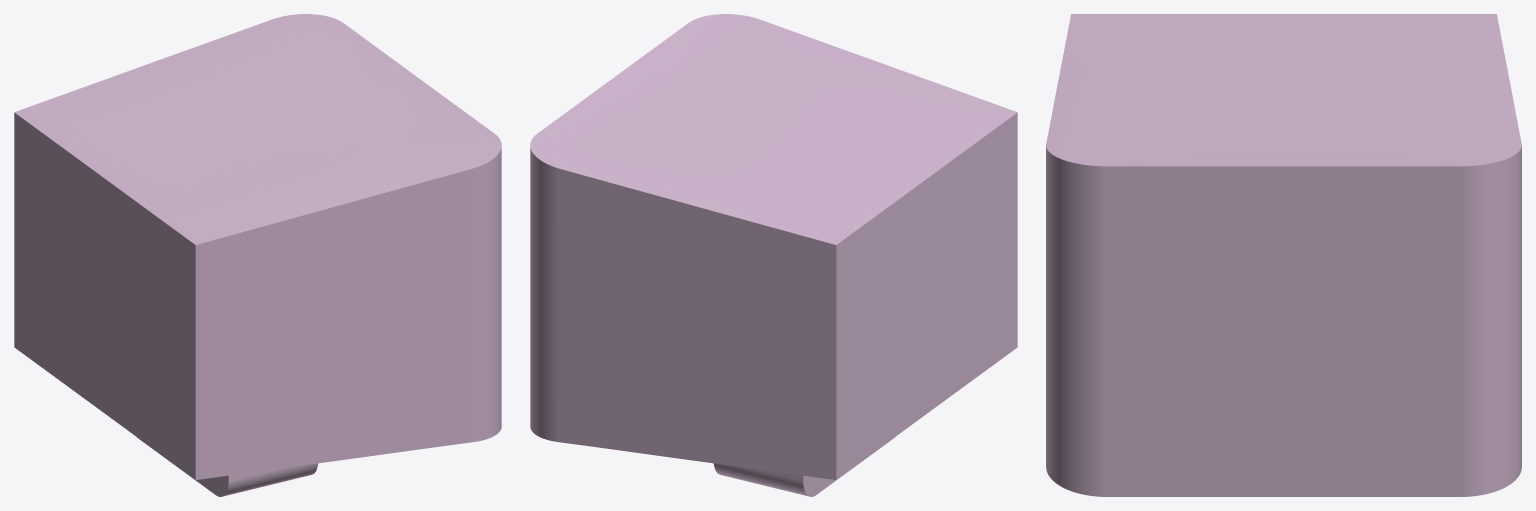
File: OUTFITTING_INTERIOR__EXT. INSTRUMENTS__Searchlight D-SS PRO Driving Pod.glb
3 views of the same model, side by side, from view 1: azimuth 30°, elevation 25°; view 2: azimuth 150°, elevation 25°; view 3: azimuth 270°, elevation 25° (orthographic). The views are drawn at different scales.
Visible parts, largest first — view 1: Searchlight D-SS PRO Driving Pod; view 2: Searchlight D-SS PRO Driving Pod; view 3: Searchlight D-SS PRO Driving Pod.
Part boxes in pixels (<box>): Searchlight D-SS PRO Driving Pod: <box>14,14,501,496</box>; Searchlight D-SS PRO Driving Pod: <box>530,14,1017,496</box>; Searchlight D-SS PRO Driving Pod: <box>1046,14,1521,496</box>.
Size of the model in its own units: 0.0889 by 0.0889 by 0.0994.
